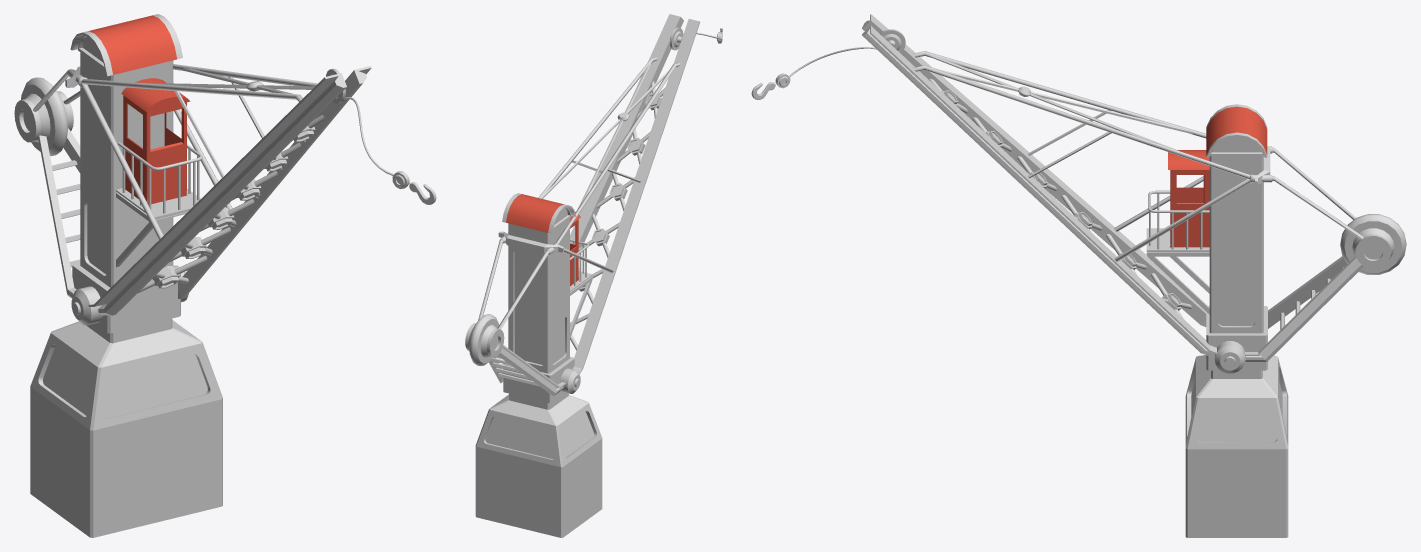
The model's file is Crane-M01A.fbx.
3 views of the same model, side by side, from view 1: azimuth 30°, elevation 25°; view 2: azimuth 150°, elevation 25°; view 3: azimuth 270°, elevation 25° (orthographic). The views are drawn at different scales.
Visible parts, largest first — view 1: Crane-M00A; view 2: Crane-M00A; view 3: Crane-M00A.
Part boxes in pixels (<box>): Crane-M00A: <box>14,14,436,537</box>; Crane-M00A: <box>465,14,722,537</box>; Crane-M00A: <box>751,14,1406,537</box>.
Bounding box in the file's own units: 301 × 1277 × 1554.
